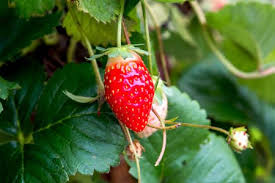Fresa: (100, 44, 158, 136)
